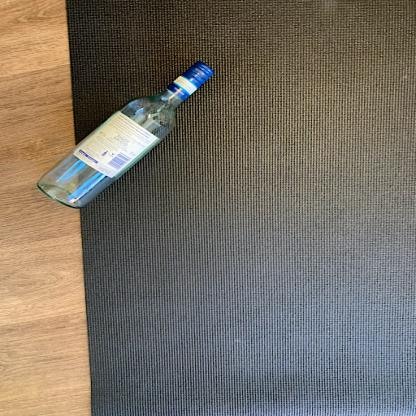trash: (36, 62, 216, 213)
